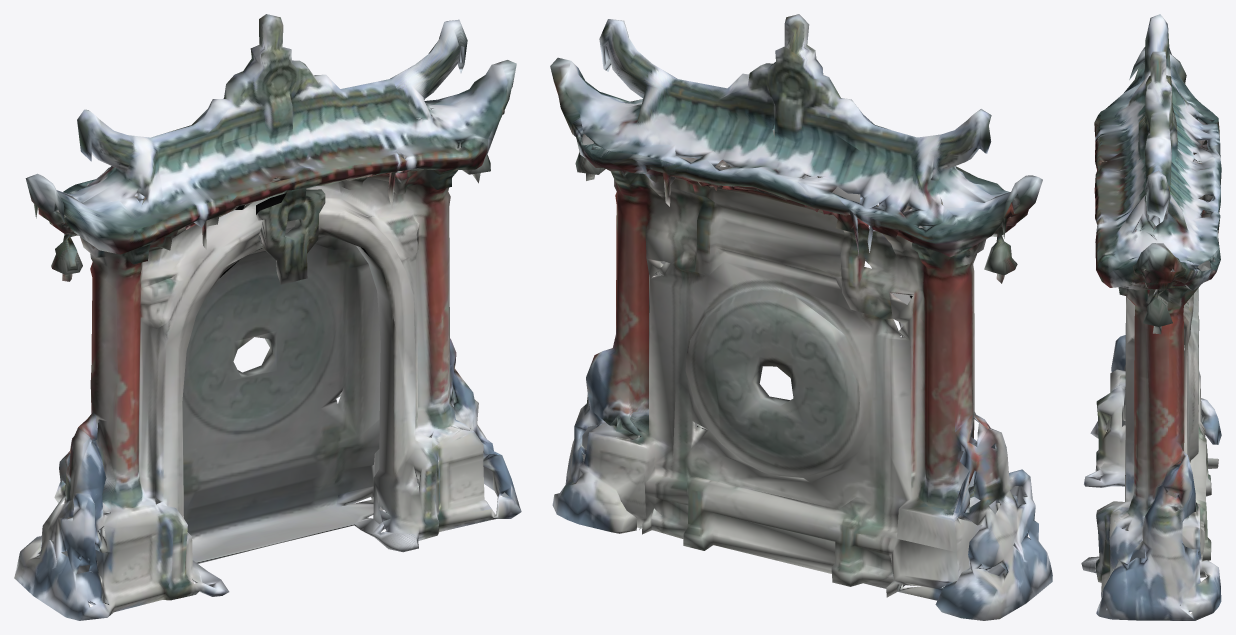
File: SM_Tripo_FrostPortalShrine.glb
The picture shows the model from 3 angles, left to right: view 1: azimuth 30°, elevation 25°; view 2: azimuth 150°, elevation 25°; view 3: azimuth 270°, elevation 25°; orthographic projection. The views are drawn at different scales.
Parts seen in each view (by area): view 1: SM_Tripo_FrostPortalShrine_LOD0; view 2: SM_Tripo_FrostPortalShrine_LOD0; view 3: SM_Tripo_FrostPortalShrine_LOD0.
Boxes of the visible parts, <box> form: SM_Tripo_FrostPortalShrine_LOD0: <box>14,14,521,620</box>; SM_Tripo_FrostPortalShrine_LOD0: <box>550,14,1052,620</box>; SM_Tripo_FrostPortalShrine_LOD0: <box>1081,14,1221,620</box>.
Size of the model in its own units: 10.46 by 10.93 by 2.94.
Materials: 1 (1 with a texture image).
